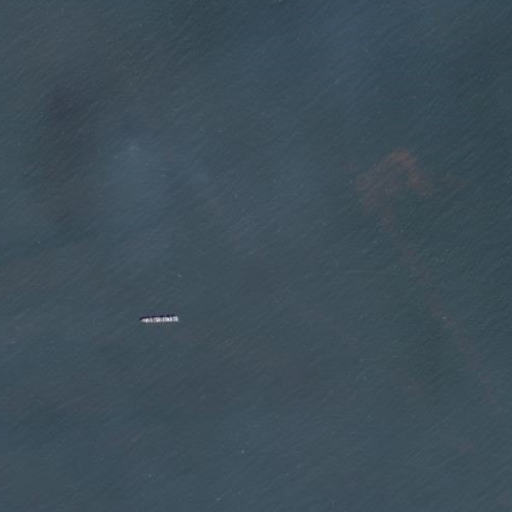ship: (137, 312, 182, 326)
